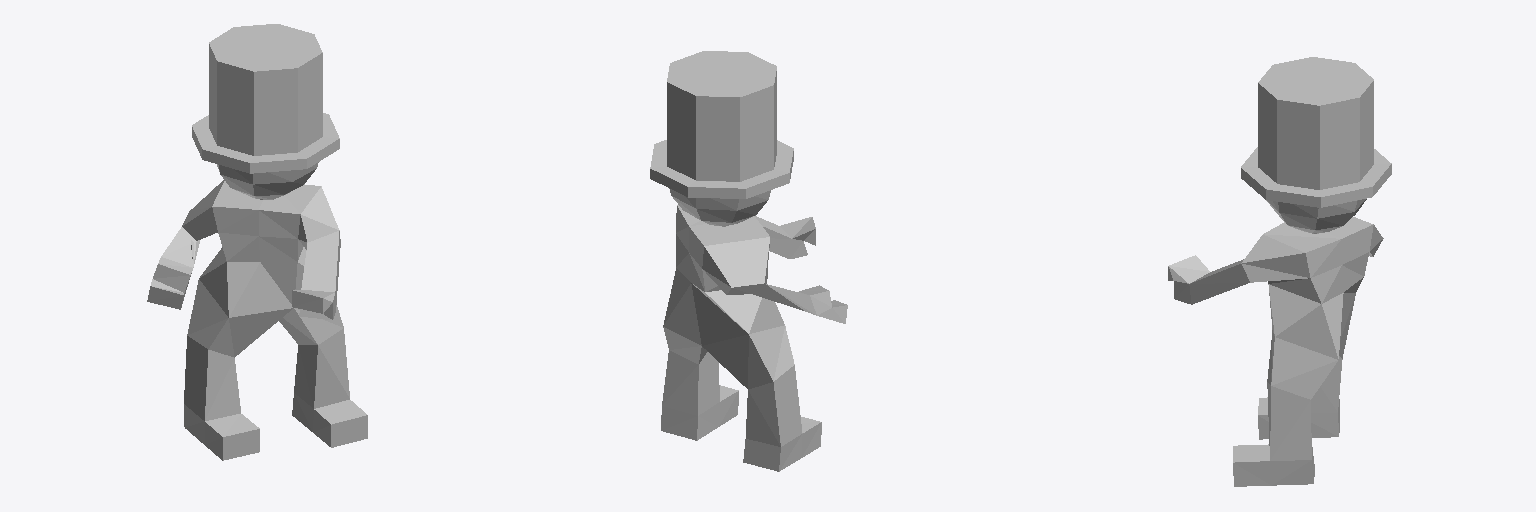
Rendered from player.obj.
The picture shows the model from 3 angles: view 1: azimuth 30°, elevation 25°; view 2: azimuth 150°, elevation 25°; view 3: azimuth 270°, elevation 25°; orthographic projection.
Visible parts, largest first — view 1: Player_円柱.002; view 2: Player_円柱.002; view 3: Player_円柱.002.
Part boxes in pixels (left/top/right/bottom): Player_円柱.002: left=147, top=24, right=367, bottom=460; Player_円柱.002: left=650, top=51, right=847, bottom=471; Player_円柱.002: left=1168, top=57, right=1391, bottom=486.
Size of the model in its own units: 3.7 by 7.14 by 3.84.